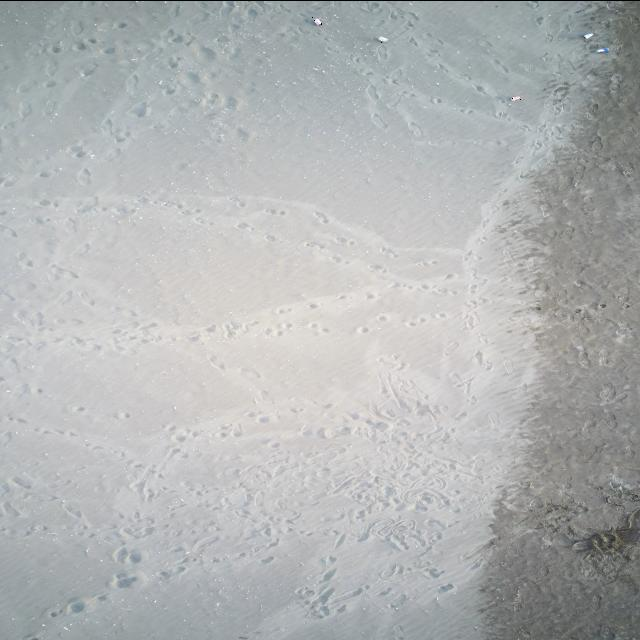Garbage: (312, 16, 322, 24), (584, 32, 593, 39), (377, 35, 386, 42), (596, 47, 607, 51), (511, 96, 522, 100)
